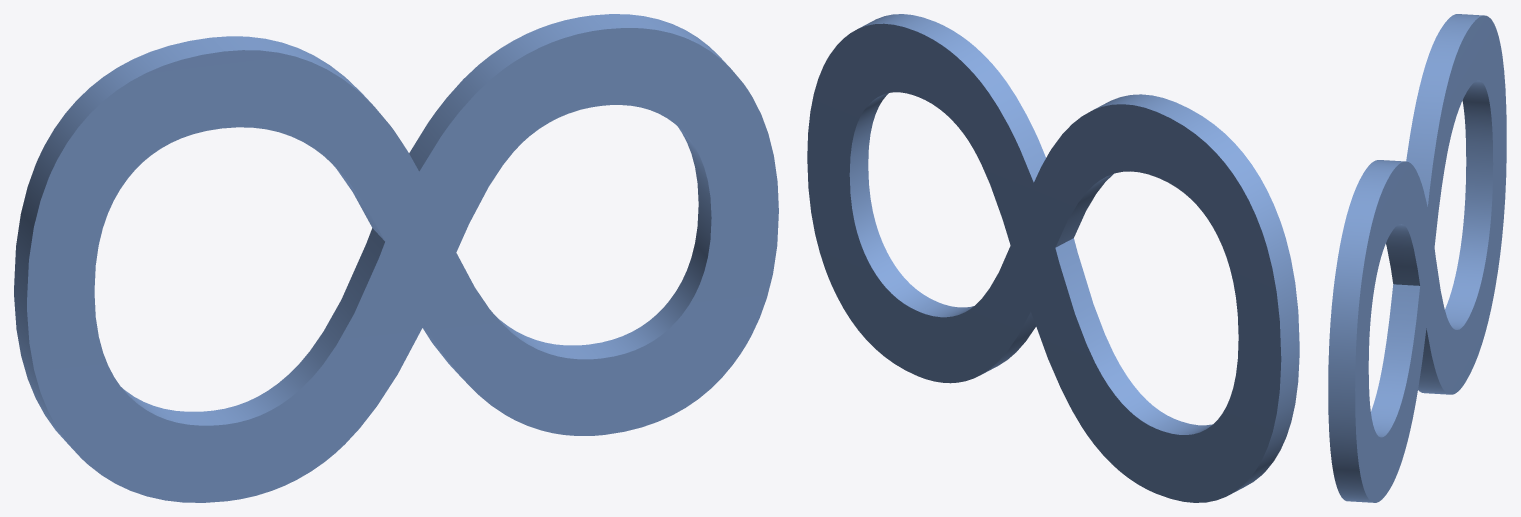
Rendered from New_Number_8.gltf.
3 renders of one model, left to right at view 1: azimuth 30°, elevation 25°; view 2: azimuth 150°, elevation 25°; view 3: azimuth 270°, elevation 25°, orthographic. The views are drawn at different scales.
Visible parts, largest first — view 1: Part 170; view 2: Part 170; view 3: Part 170.
Boxes of the visible parts, <box> form: Part 170: <box>14,14,778,502</box>; Part 170: <box>807,14,1299,502</box>; Part 170: <box>1328,14,1506,502</box>.
Bounding box in the file's own units: 0.00554 × 0.00362 × 0.00167.
